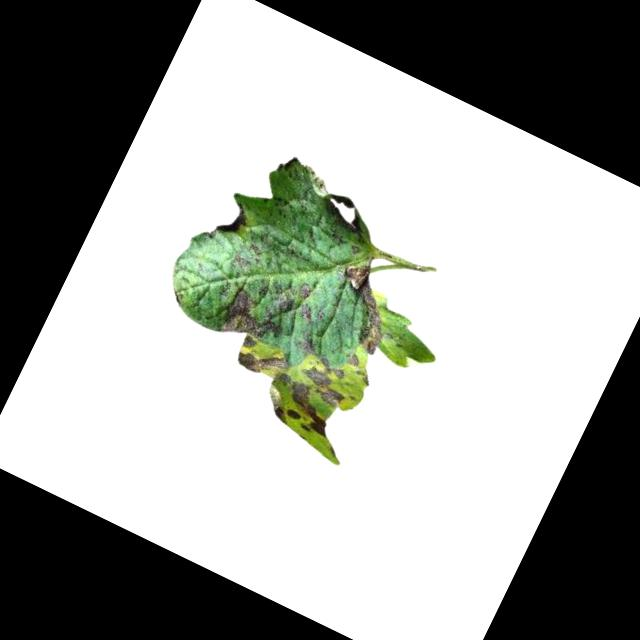Early_blight: (217, 330, 365, 451), (317, 256, 408, 355), (217, 274, 295, 352), (213, 198, 254, 241), (295, 334, 325, 362), (297, 302, 316, 323), (297, 283, 316, 301)
